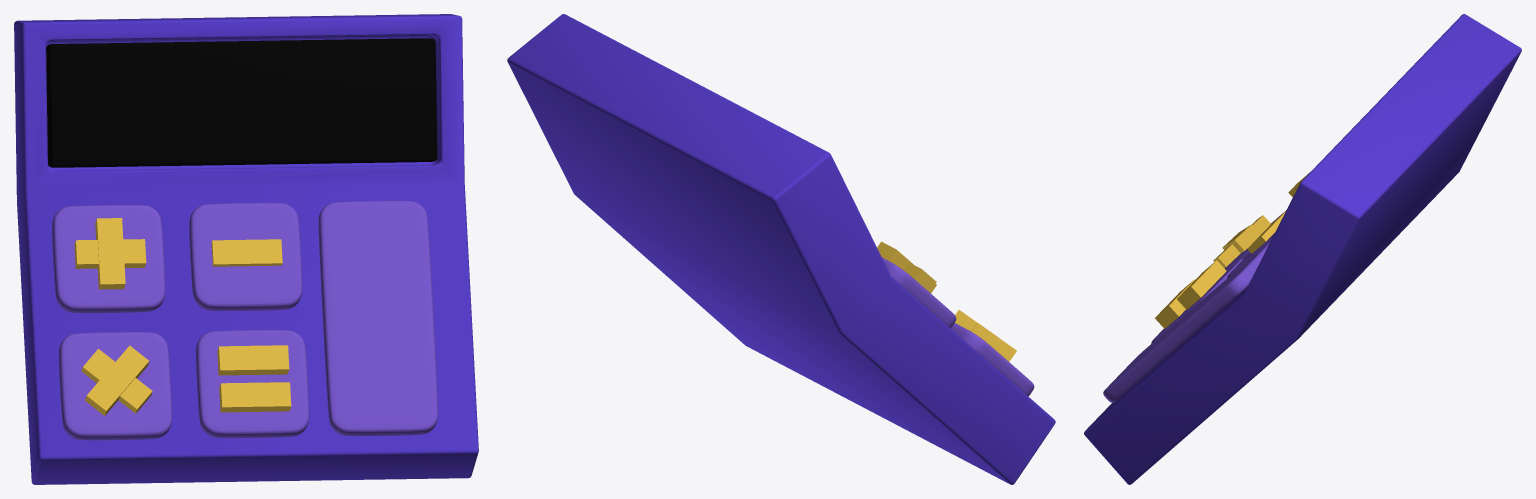
Rendered from calculator-3d-icon-534942338355.glb.
3 renders of one model, left to right at view 1: azimuth 30°, elevation 25°; view 2: azimuth 150°, elevation 25°; view 3: azimuth 270°, elevation 25°, orthographic. The views are drawn at different scales.
Visible parts, largest first — view 1: Body, Keycaps, Screen, Keycaps Detail; view 2: Body, Keycaps, Keycaps Detail; view 3: Body, Keycaps, Keycaps Detail.
Boxes of the visible parts, bbox=[...] form: Body: bbox=[14, 14, 478, 484]; Keycaps: bbox=[52, 200, 438, 440]; Screen: bbox=[46, 38, 437, 167]; Keycaps Detail: bbox=[74, 218, 291, 415]; Body: bbox=[507, 14, 1055, 484]; Keycaps: bbox=[882, 257, 1034, 396]; Keycaps Detail: bbox=[877, 241, 1016, 361]; Body: bbox=[1084, 14, 1521, 484]; Keycaps: bbox=[1103, 210, 1286, 402]; Keycaps Detail: bbox=[1155, 172, 1309, 328].
Bounding box in the file's own units: 2.1 × 1.63 × 1.83.
